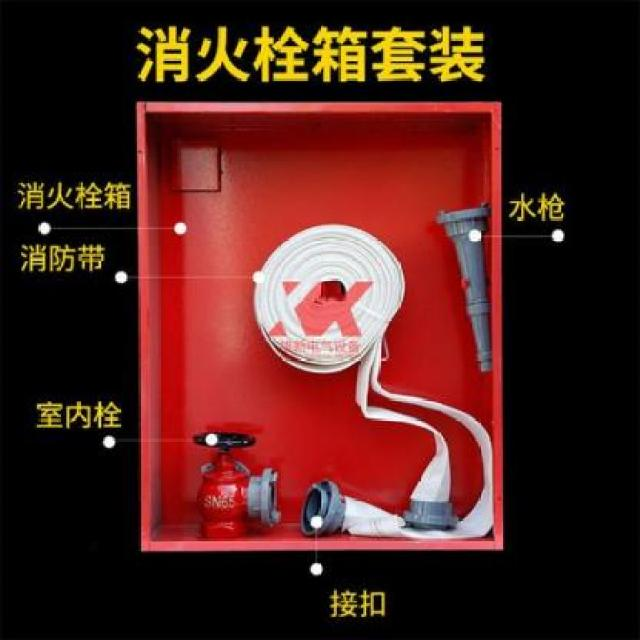firehydrant: (132, 95, 508, 558)
